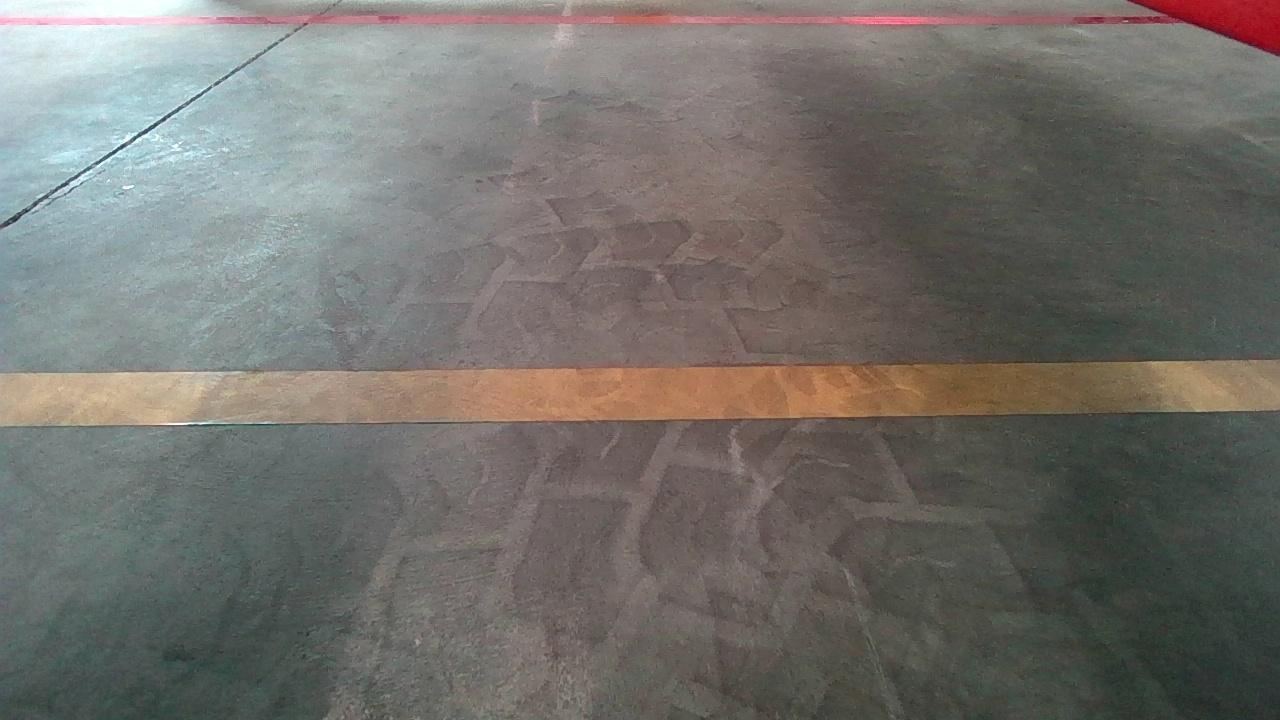red_line: (22, 8, 1155, 32)
yellow_line: (6, 356, 1278, 425)
